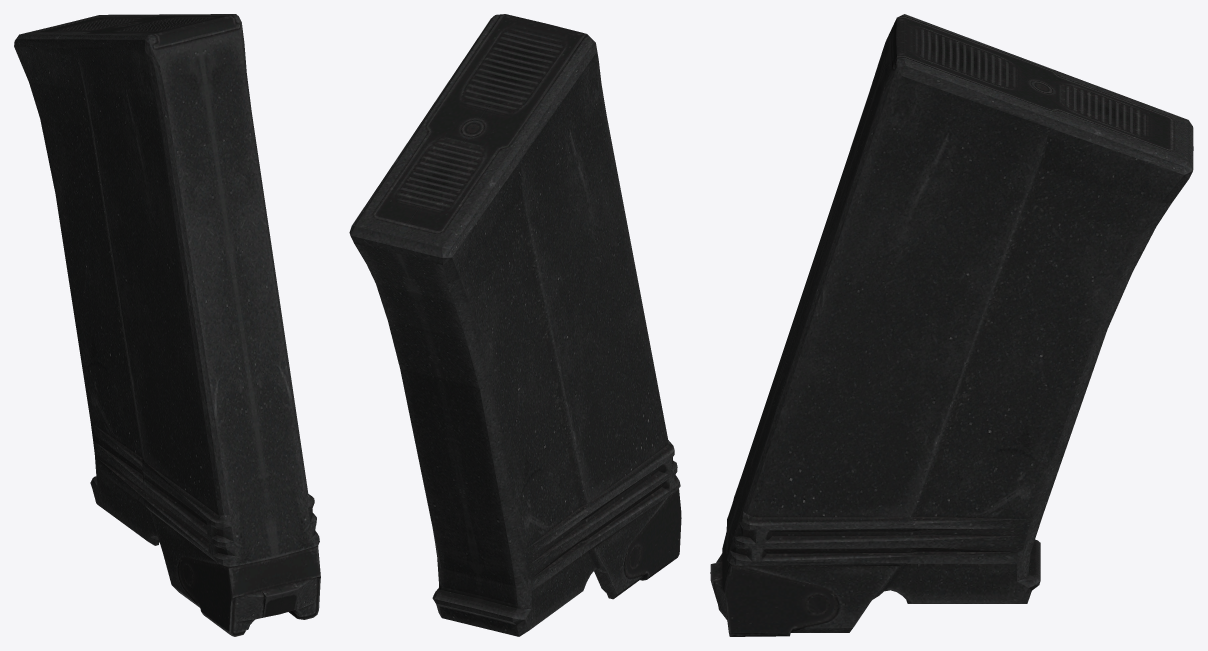
3 views of the same model, side by side, from view 1: azimuth 30°, elevation 25°; view 2: azimuth 150°, elevation 25°; view 3: azimuth 270°, elevation 25° (orthographic). The views are drawn at different scales.
Parts seen in each view (by area): view 1: TW_57616a9e2459773c7a400234_PZ_Import; view 2: TW_57616a9e2459773c7a400234_PZ_Import; view 3: TW_57616a9e2459773c7a400234_PZ_Import.
Part boxes in pixels (x1,y1,x2,y2): TW_57616a9e2459773c7a400234_PZ_Import: (14,14,320,636); TW_57616a9e2459773c7a400234_PZ_Import: (349,14,681,636); TW_57616a9e2459773c7a400234_PZ_Import: (710,14,1193,636).
Bounding box in the file's own units: 0.0188 × 0.0728 × 0.0964.
1 material, 1 textured.
